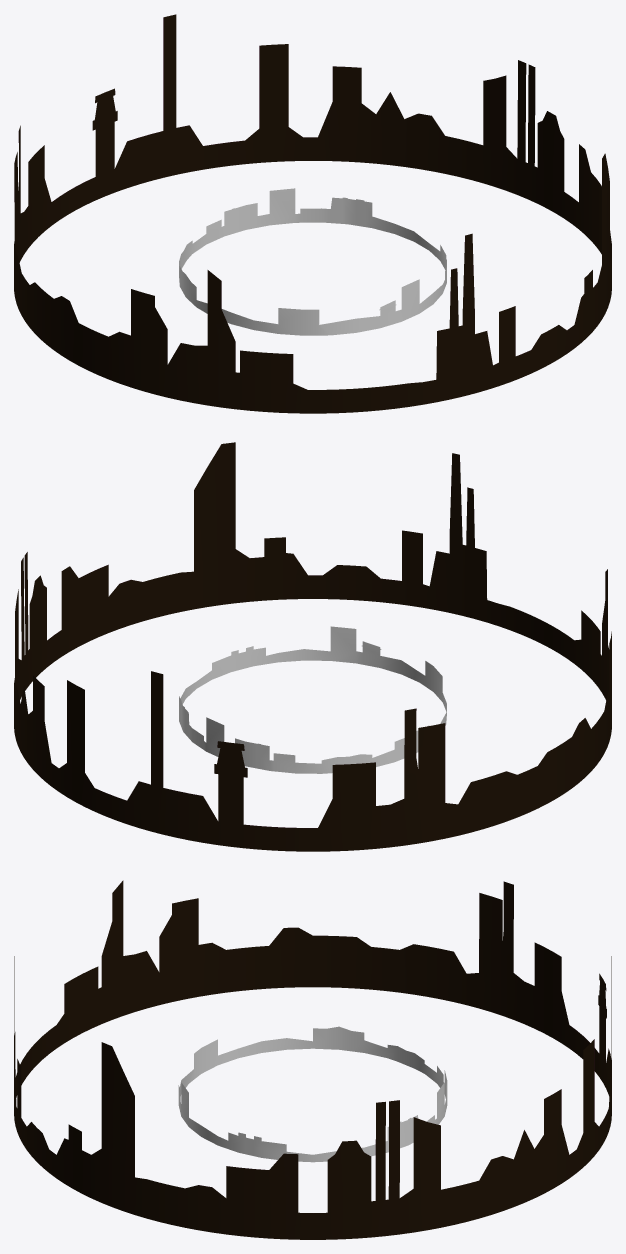
Rendered from skybox-city.fbx.
3 views of the same model, one above another, from view 1: azimuth 30°, elevation 25°; view 2: azimuth 150°, elevation 25°; view 3: azimuth 270°, elevation 25° (orthographic).
Parts seen in each view (by area): view 1: Cylinder.001, Cylinder; view 2: Cylinder.001, Cylinder; view 3: Cylinder.001, Cylinder.
Boxes of the visible parts, x1,y1,x2,y2 form: Cylinder.001: [14, 14, 611, 413]; Cylinder: [179, 188, 446, 335]; Cylinder.001: [14, 442, 611, 851]; Cylinder: [179, 626, 446, 773]; Cylinder.001: [14, 880, 611, 1239]; Cylinder: [178, 1026, 447, 1162].
Bounding box in the file's own units: 9260 × 2750 × 9260.
Materials: 2 (1 with a texture image).
